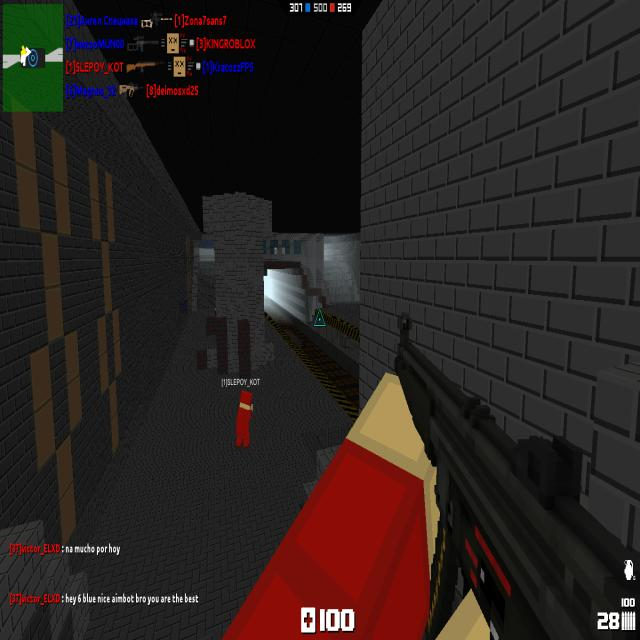enemy: (215, 305, 217, 317)
